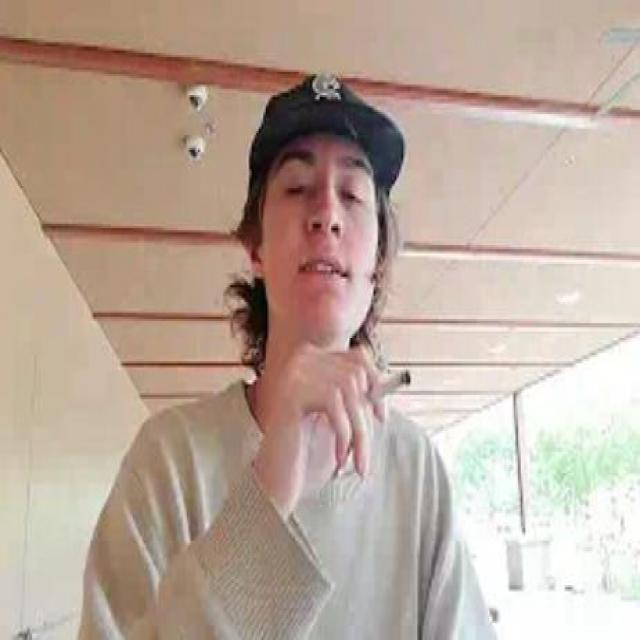smoke: (357, 355, 420, 416)
